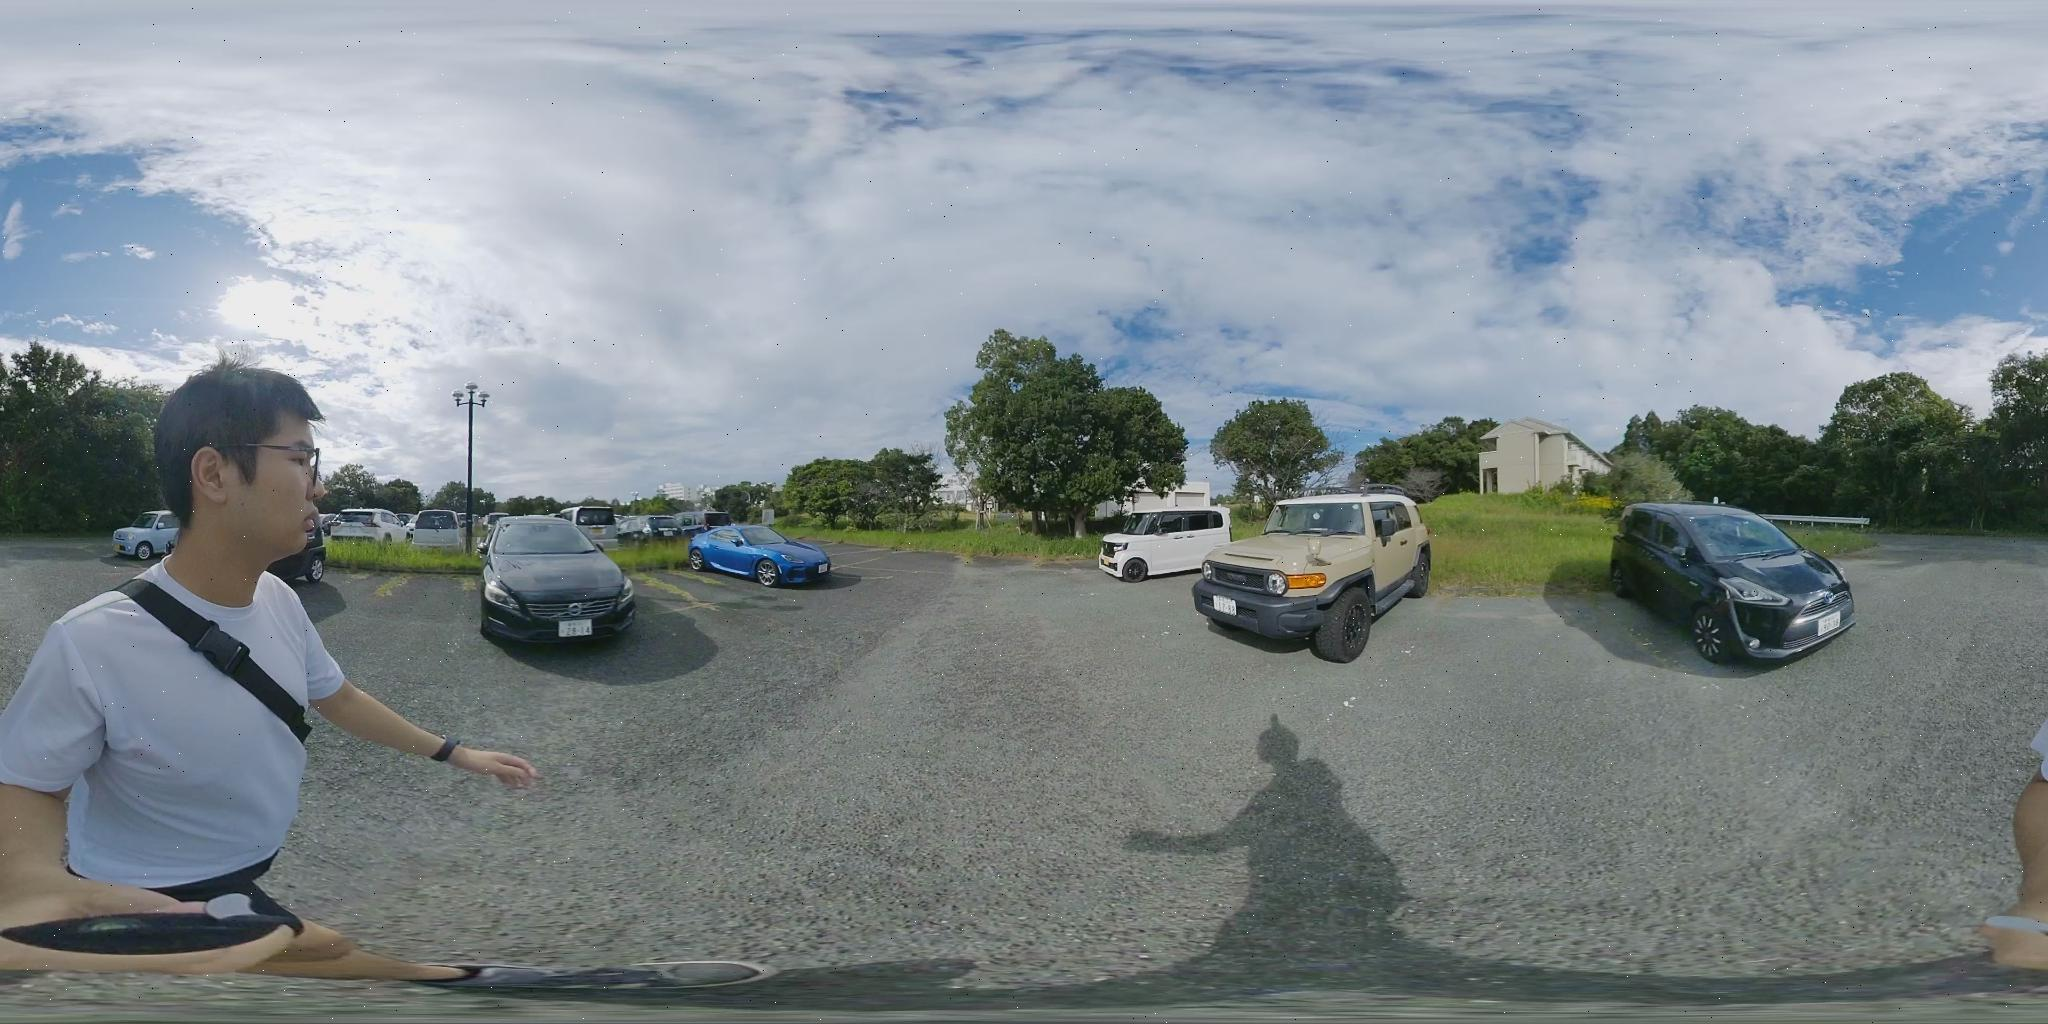car: (1607, 502, 1857, 670), (1185, 494, 1437, 660), (473, 519, 637, 644), (1101, 507, 1236, 581), (690, 525, 831, 586), (330, 512, 418, 543), (115, 522, 183, 559), (408, 512, 465, 546)
